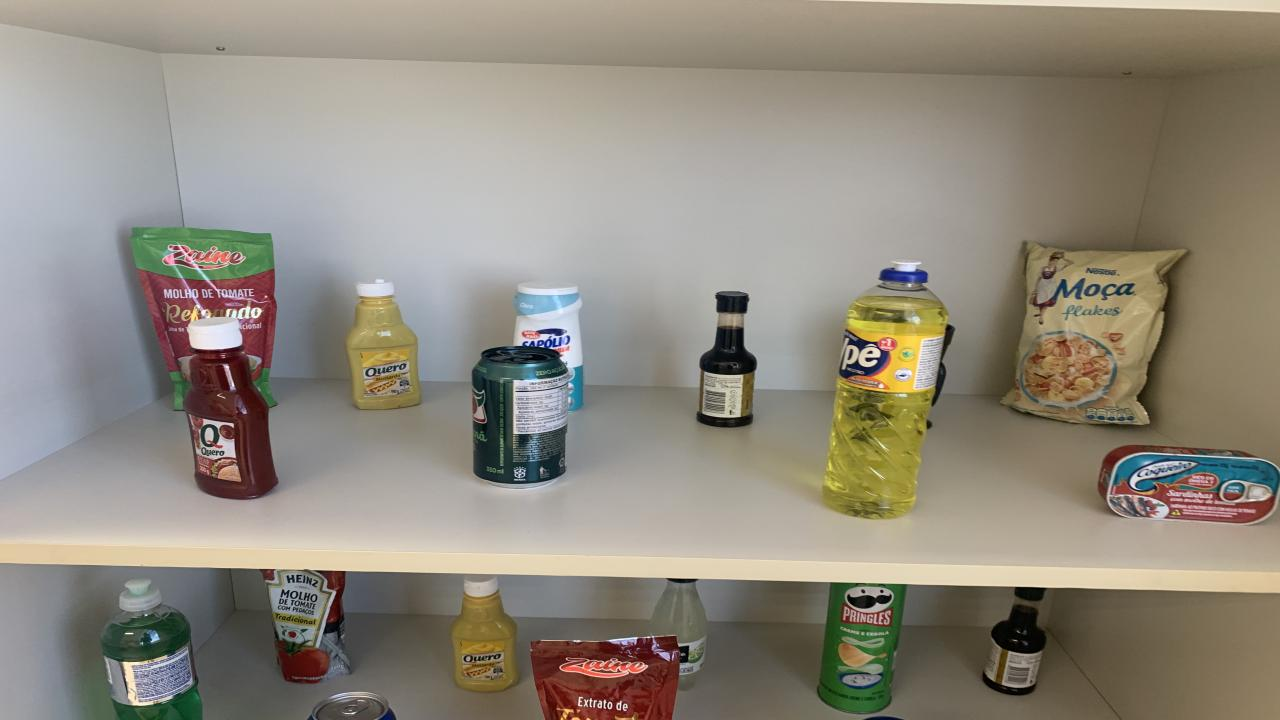Cleaner-Cleanup_Items: (512, 281, 582, 411)
Detergent-Cleanup_Items: (822, 261, 948, 519), (100, 579, 202, 720)
English_Sauce-Pantry_Items: (698, 291, 758, 428), (982, 587, 1045, 696)
Flakes-Snacks: (1002, 242, 1185, 426)
Guarana_Can-Drinks: (472, 345, 570, 488)
Ketchup-Pantry_Items: (182, 317, 278, 499)
Mustard-Pantry_Items: (345, 279, 422, 411), (450, 574, 520, 692)
Pringles-Snacks: (818, 583, 908, 712)
Soda-Drinks: (648, 578, 708, 690)
Tomato_Sauce-Pantry_Items: (130, 227, 278, 411), (530, 636, 680, 720), (262, 570, 350, 682)
Tonic-Drinks: (308, 692, 395, 720)
Tuna_Can-Pantry_Items: (1100, 446, 1280, 525)
